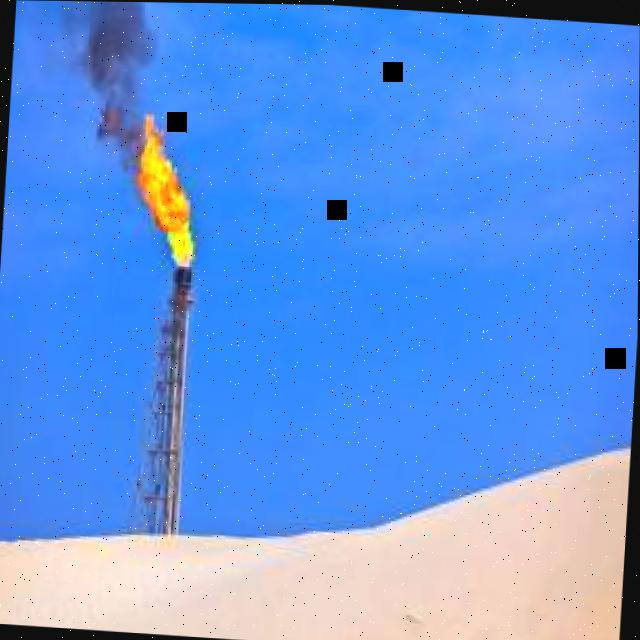fire: (133, 113, 194, 267)
smoke: (64, 1, 161, 175)
